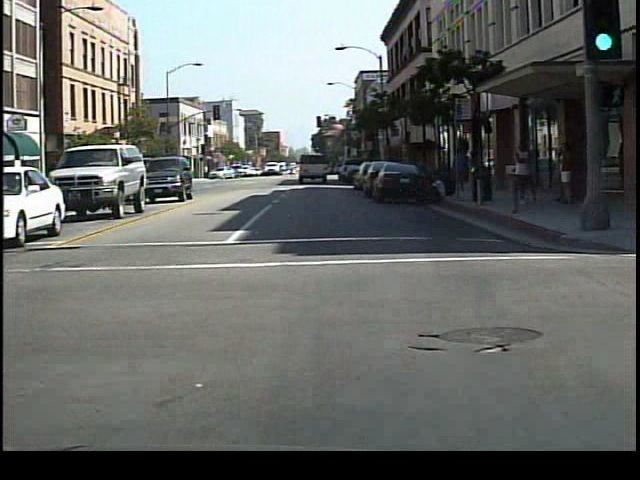person: (508, 135, 543, 216), (448, 142, 471, 200)
